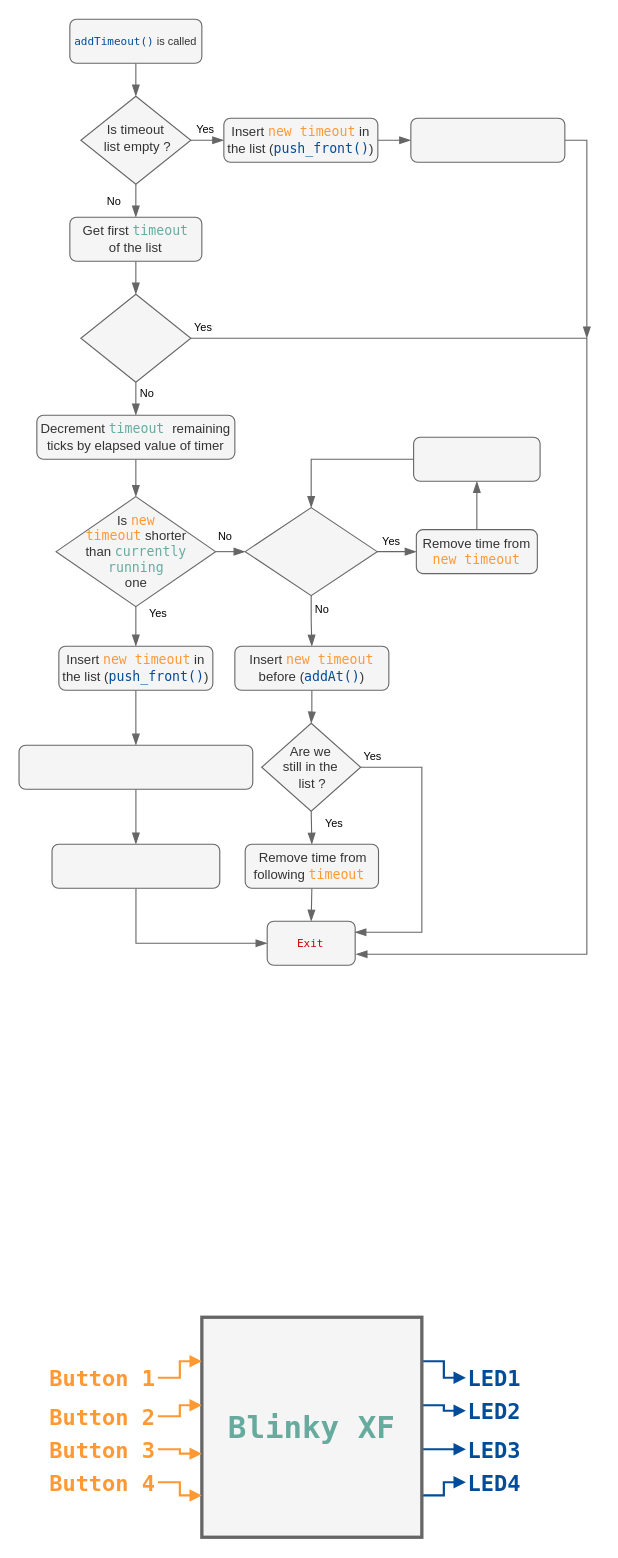
Image size: 618x1558. Some labels were removed from this diagram. Here are the shapes that lost their labels. From the top down, the centre of each, then its label:
(487,139): Start the XF's timer again xfTimerStart()
(135,337): Is timeout NULL ?
(476,458): Get next timeout in the list
(310,551): new timeout not NULL ?
(135,766): Decrement new timeout remaining ticks by elapsed value of timer
(135,865): Restart the XF's timer with new timeout 's duration
